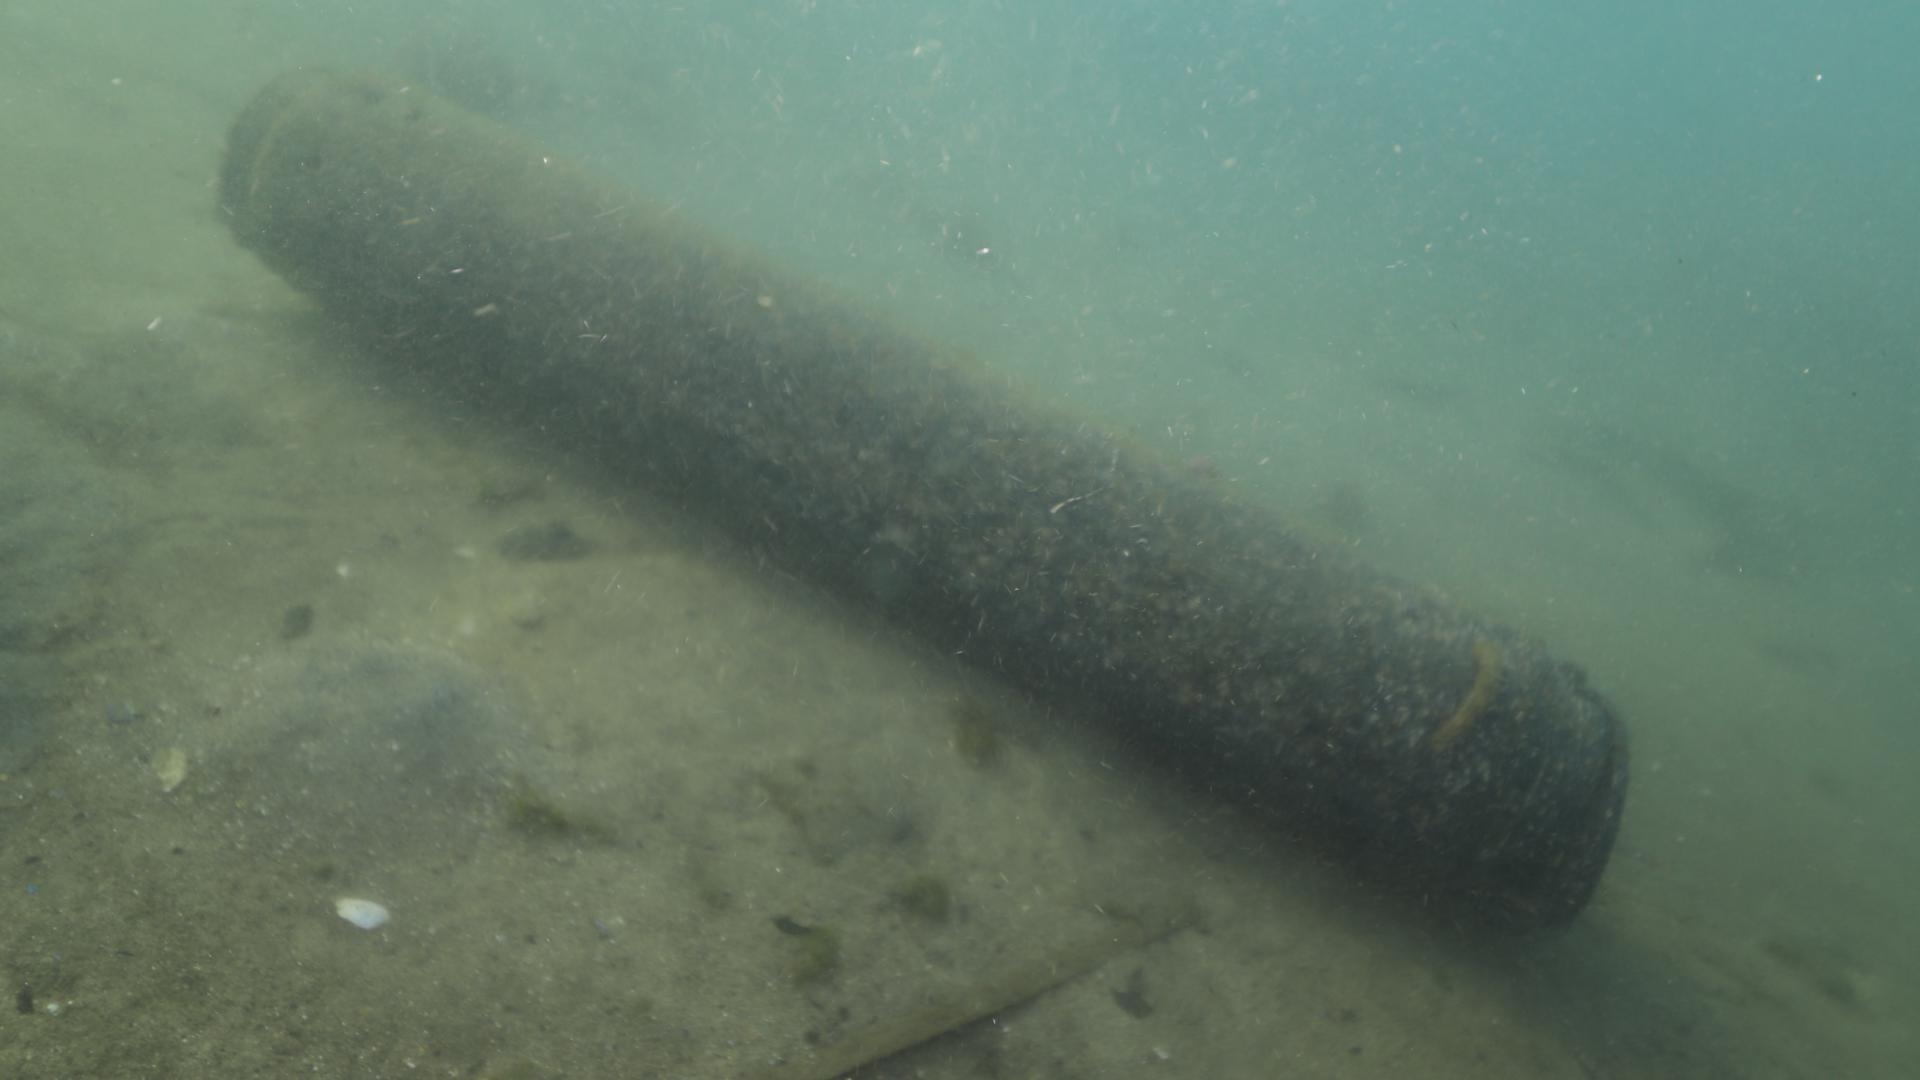eel fish trap: (206, 55, 1636, 957)
